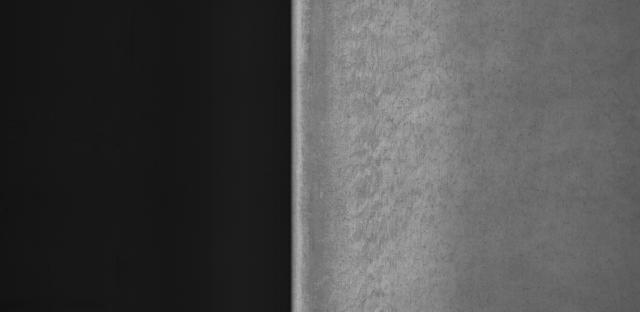silk_spot: (321, 9, 440, 296)
